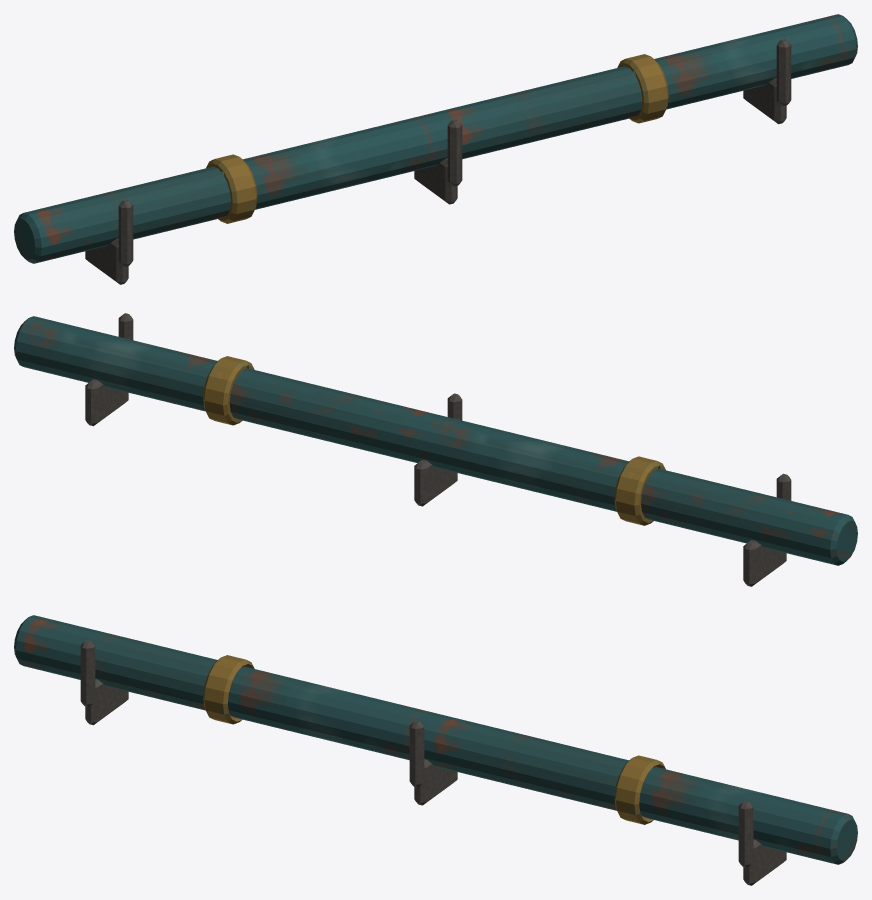
File: WK_STRUCT_PIPE_RUN_A_01.glb
3 renders of one model, top to bottom at view 1: azimuth 30°, elevation 25°; view 2: azimuth 150°, elevation 25°; view 3: azimuth 330°, elevation 25°, orthographic.
Visible parts, largest first — view 1: WK_STRUCT_PIPE_RUN_A_01; view 2: WK_STRUCT_PIPE_RUN_A_01; view 3: WK_STRUCT_PIPE_RUN_A_01.
Boxes of the visible parts, <box> form: WK_STRUCT_PIPE_RUN_A_01: <box>14,14,857,284</box>; WK_STRUCT_PIPE_RUN_A_01: <box>14,313,857,586</box>; WK_STRUCT_PIPE_RUN_A_01: <box>14,615,857,885</box>.
Bounding box in the file's own units: 4 × 0.4 × 0.34.
Materials: 3 (3 with a texture image).
